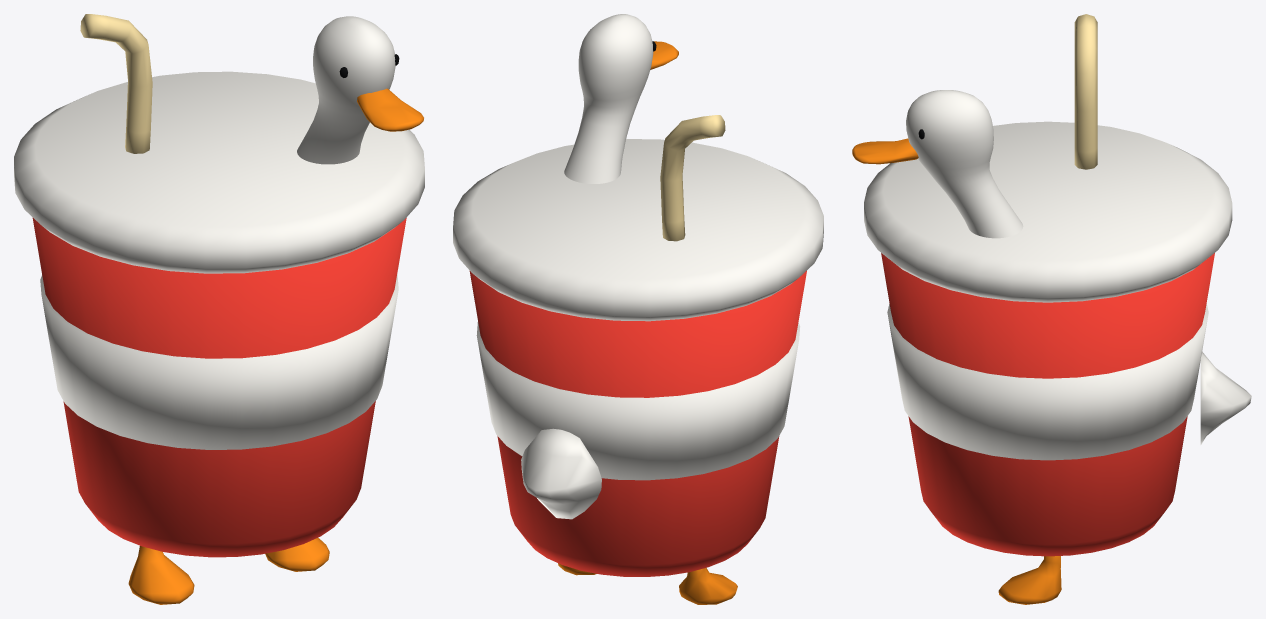
The model's file is duck-colacup.glb.
The picture shows the model from 3 angles, left to right: view 1: azimuth 30°, elevation 25°; view 2: azimuth 150°, elevation 25°; view 3: azimuth 270°, elevation 25°; orthographic projection. The views are drawn at different scales.
Visible parts, largest first — view 1: duck-colacup; view 2: duck-colacup; view 3: duck-colacup.
Boxes of the visible parts, left/top/right/bottom form: duck-colacup: left=14, top=14, right=424, bottom=604; duck-colacup: left=453, top=14, right=823, bottom=604; duck-colacup: left=852, top=14, right=1251, bottom=604.
Size of the model in its own units: 0.6539 by 1 by 0.709.
1 material, 1 textured.
